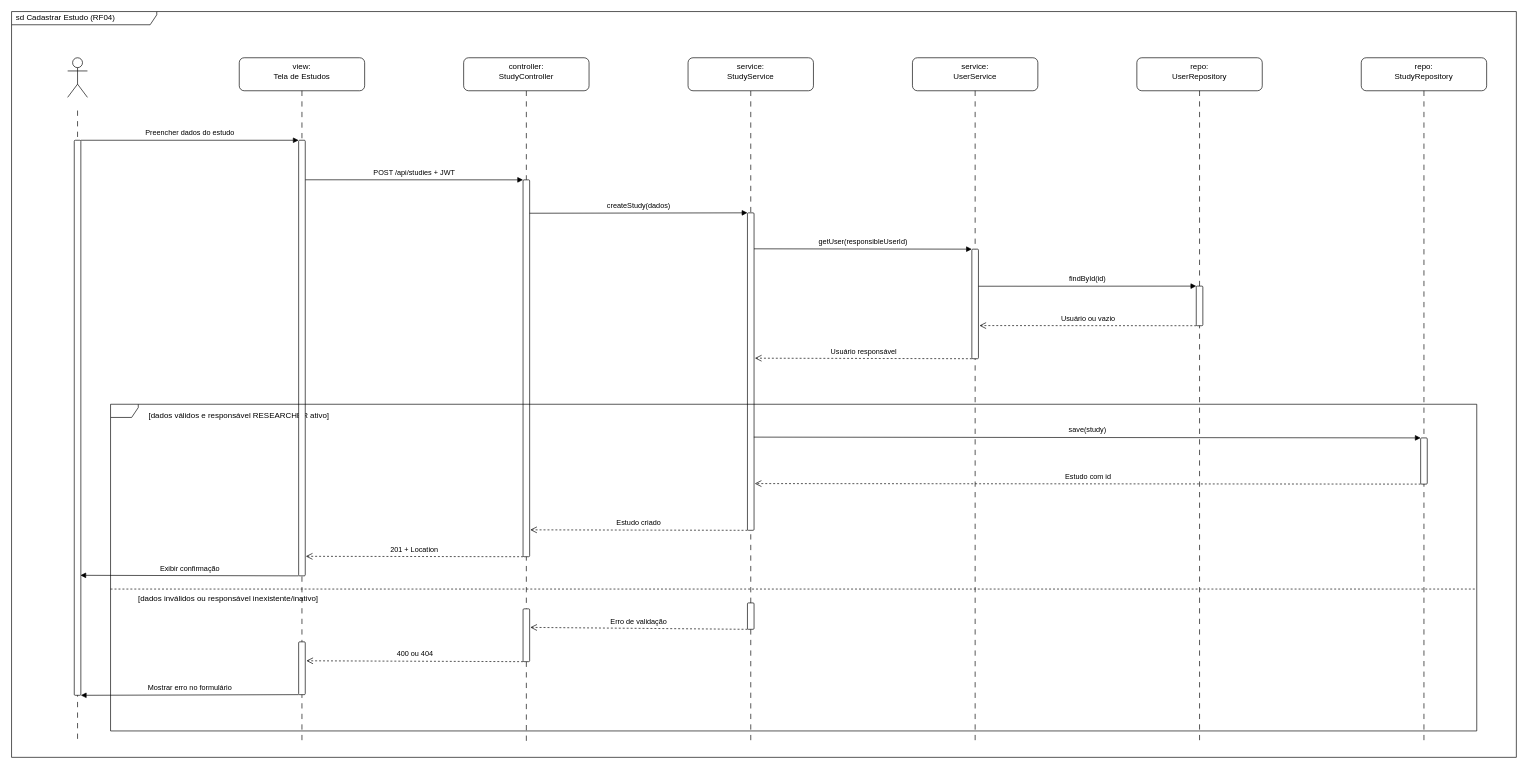
The diagram is 1528 pixels wide and 769 high, and some of its shapes have lost their labels. Here are the shapes that lost their labels. From the top down, the centre of each, then its label:
At pixel 77 77: "Pesquisador".
At pixel 793 567: "alt".
